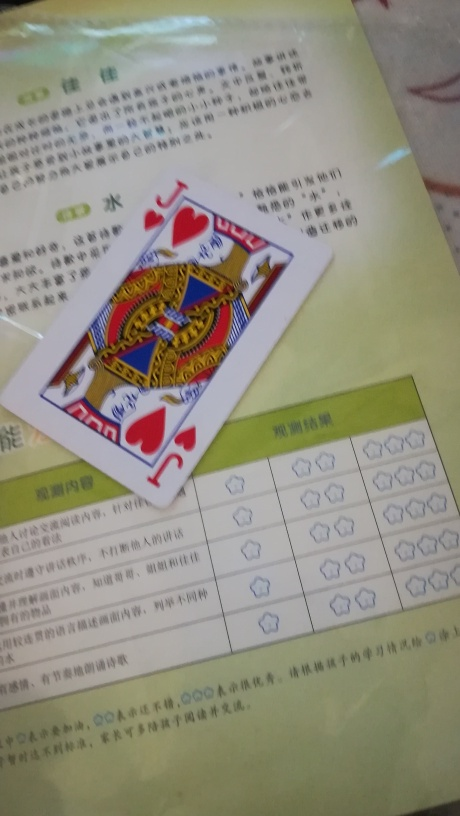hx j: (0, 159, 338, 523)
